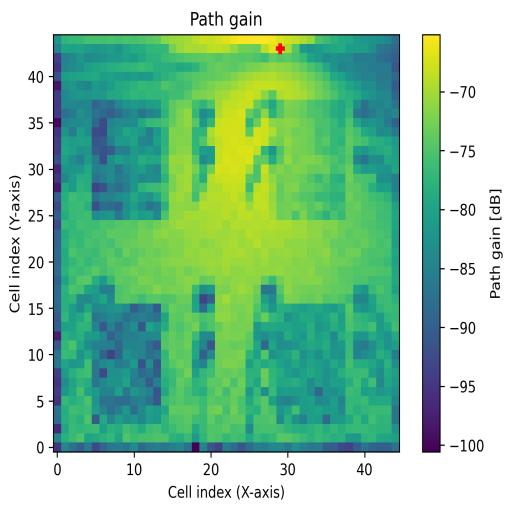Concrete: (269, 101, 346, 223)
Glass: (92, 98, 169, 220)
Metal: (269, 303, 346, 426)
Wood: (91, 303, 161, 424)
